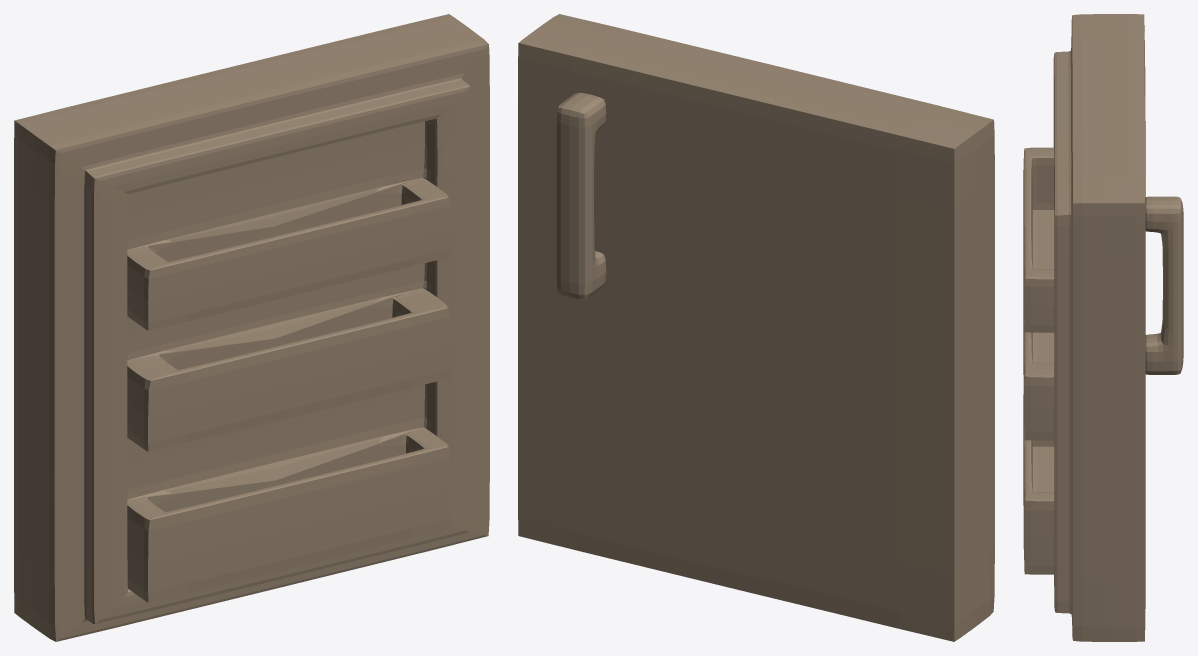
Rendered from icebox_door2.fbx.
3 views of the same model, side by side, from view 1: azimuth 30°, elevation 25°; view 2: azimuth 150°, elevation 25°; view 3: azimuth 270°, elevation 25° (orthographic). The views are drawn at different scales.
Visible parts, largest first — view 1: icebox_door2; view 2: icebox_door2, polySurface717; view 3: icebox_door2, polySurface717.
Boxes of the visible parts, bbox=[...] form: icebox_door2: bbox=[14, 14, 489, 641]; icebox_door2: bbox=[518, 14, 994, 641]; polySurface717: bbox=[556, 92, 606, 299]; icebox_door2: bbox=[1023, 14, 1145, 641]; polySurface717: bbox=[1145, 196, 1183, 374].
Bounding box in the file's own units: 1.4 × 1.51 × 0.5002.
